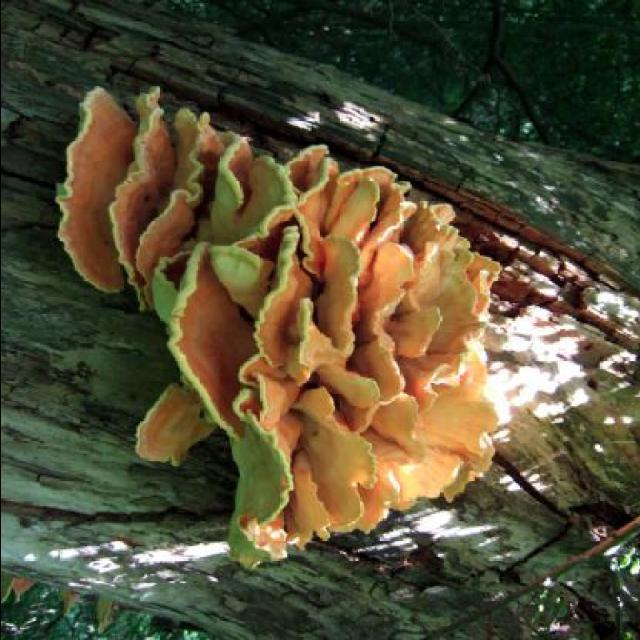Mushroom: (110, 121, 508, 558)
